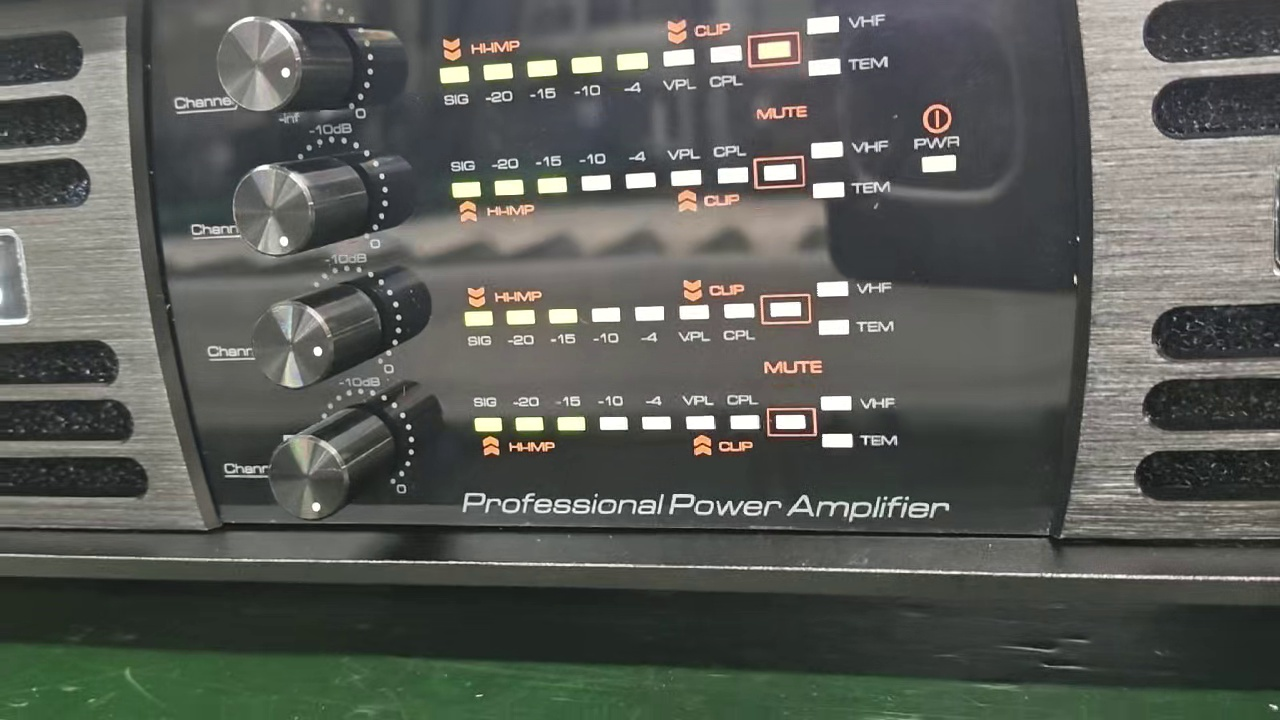FP_CPL: (705, 39, 748, 97), (710, 141, 751, 189), (720, 301, 760, 348), (724, 389, 762, 434)
FP_PWR: (909, 136, 967, 179)
FP_PWR_area: (906, 98, 968, 186)
FP_SIG_area: (430, 9, 895, 108), (445, 137, 894, 226), (467, 384, 902, 467), (462, 270, 893, 349)
FP_VPL: (658, 45, 699, 99), (679, 389, 720, 433), (666, 143, 704, 190), (675, 301, 712, 348)
